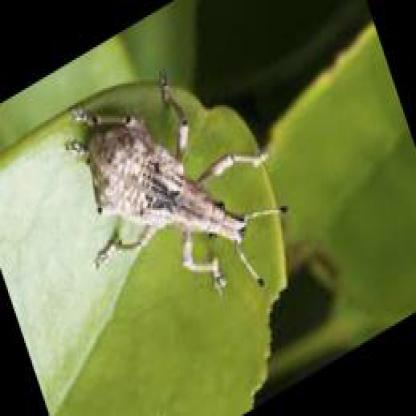ash weevil: (65, 74, 283, 285)
